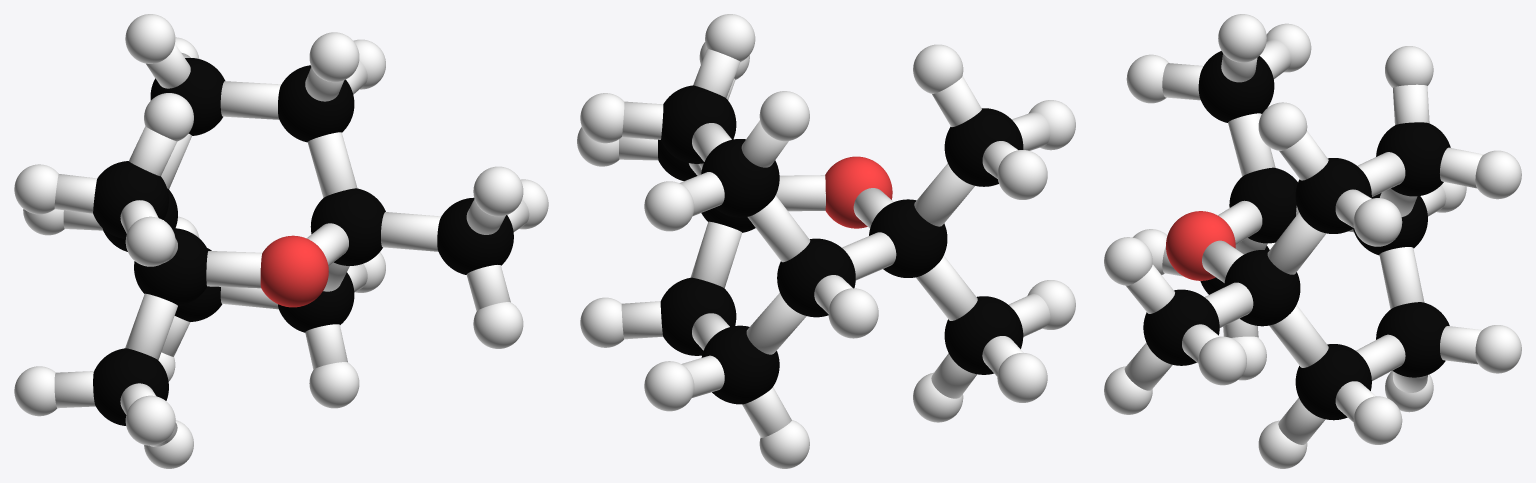
3 renders of one model, left to right at view 1: azimuth 30°, elevation 25°; view 2: azimuth 150°, elevation 25°; view 3: azimuth 270°, elevation 25°, orthographic. The views are drawn at different scales.
Visible parts, largest first — view 1: molecule; view 2: molecule; view 3: molecule.
Part boxes in pixels (bbox=[...]): molecule: bbox=[14, 14, 548, 468]; molecule: bbox=[577, 14, 1075, 468]; molecule: bbox=[1104, 14, 1521, 468].
Bounding box in the file's own units: 6.85 × 4.92 × 5.15.
